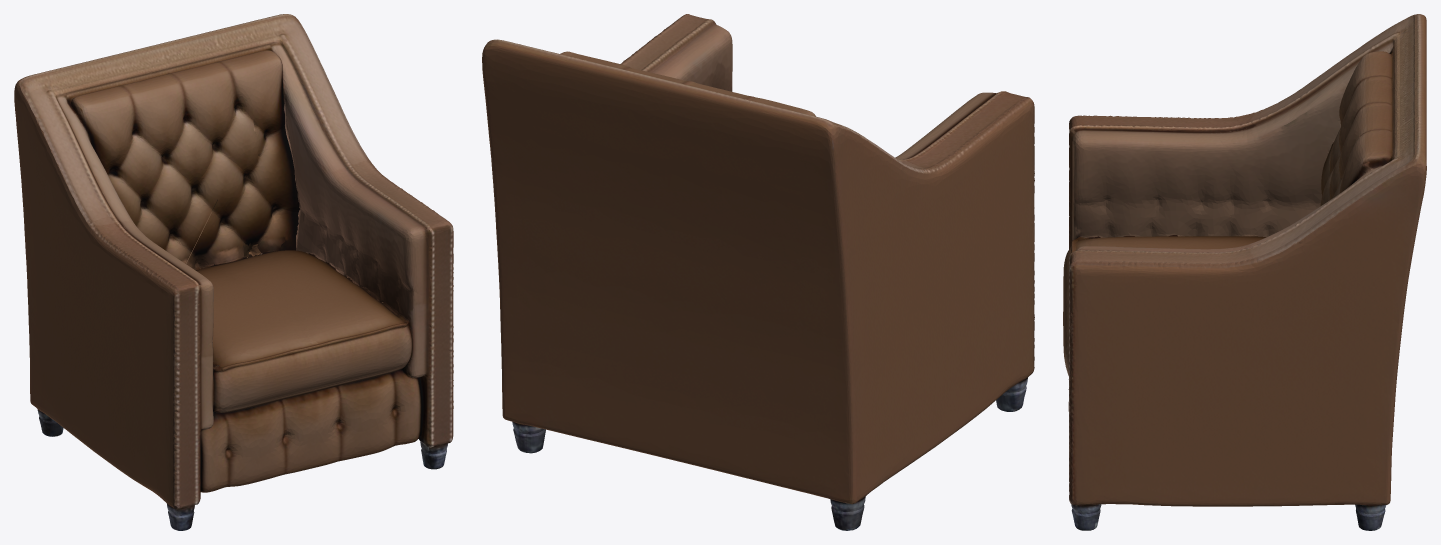
The model's file is 055ee7e3-e520-45ce-bba7-d0768ed3b5ad_result.glb.
The picture shows the model from 3 angles, left to right: view 1: azimuth 30°, elevation 25°; view 2: azimuth 150°, elevation 25°; view 3: azimuth 270°, elevation 25°; orthographic projection. The views are drawn at different scales.
Visible parts, largest first — view 1: tmp7yhhfhm5.ply; view 2: tmp7yhhfhm5.ply; view 3: tmp7yhhfhm5.ply.
Part boxes in pixels (left/top/right/bottom): tmp7yhhfhm5.ply: left=14, top=14, right=453, bottom=530; tmp7yhhfhm5.ply: left=482, top=14, right=1034, bottom=530; tmp7yhhfhm5.ply: left=1063, top=14, right=1426, bottom=530.
Size of the model in its own units: 1.7 by 1.96 by 1.72.
Materials: 1 (1 with a texture image).
